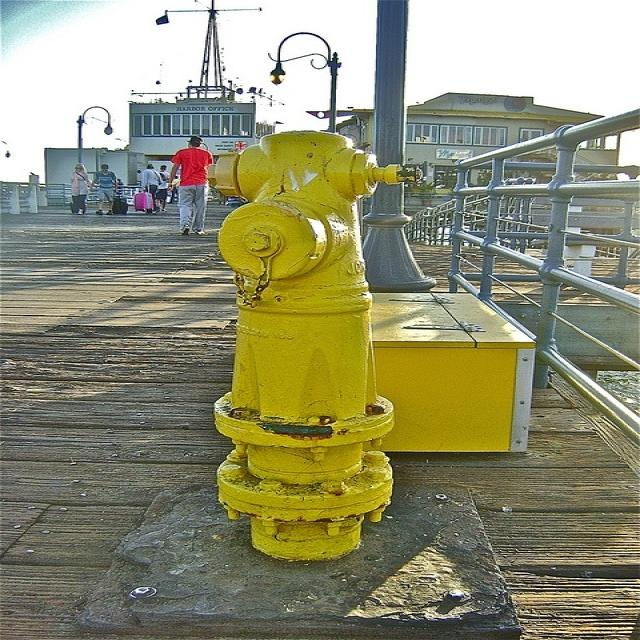fire_hydrant: (154, 76, 486, 564)
